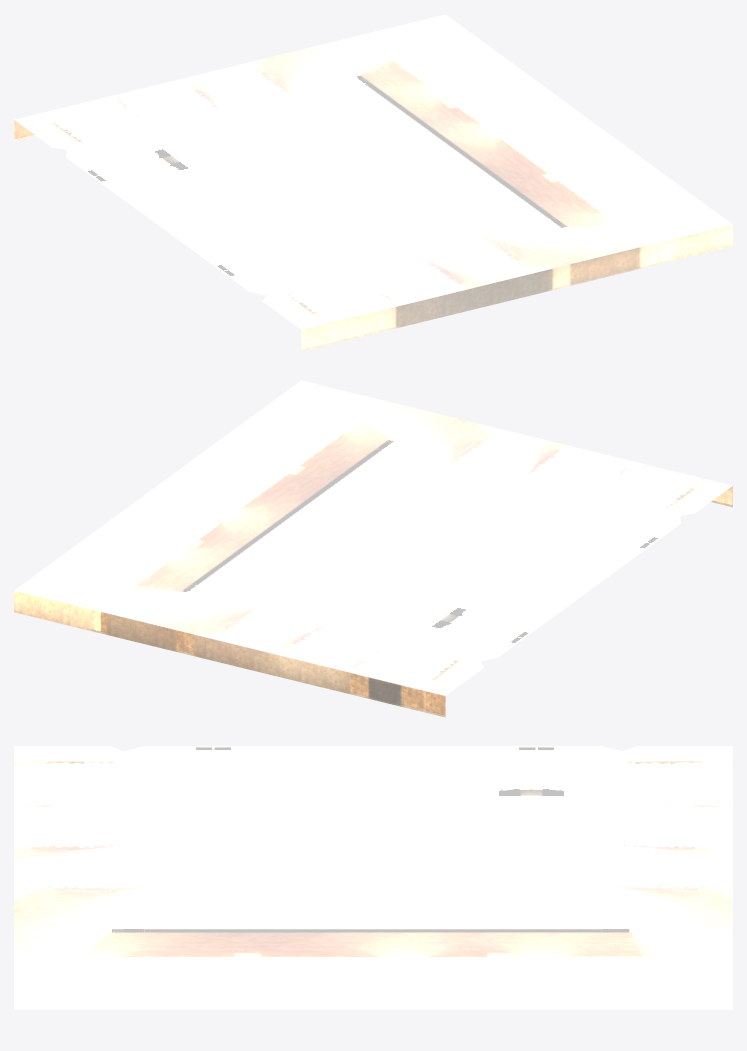
3 renders of one model, top to bottom at view 1: azimuth 30°, elevation 25°; view 2: azimuth 150°, elevation 25°; view 3: azimuth 270°, elevation 25°, orthographic. The views are drawn at different scales.
Visible parts, largest first — view 1: 室内-舞台地面; view 2: 室内-舞台地面; view 3: 室内-舞台地面.
Boxes of the visible parts, <box> form: 室内-舞台地面: <box>14,14,732,351</box>; 室内-舞台地面: <box>14,380,732,717</box>; 室内-舞台地面: <box>14,746,732,1009</box>.
Bounding box in the file's own units: 19.79 × 0.95 × 22.8.
